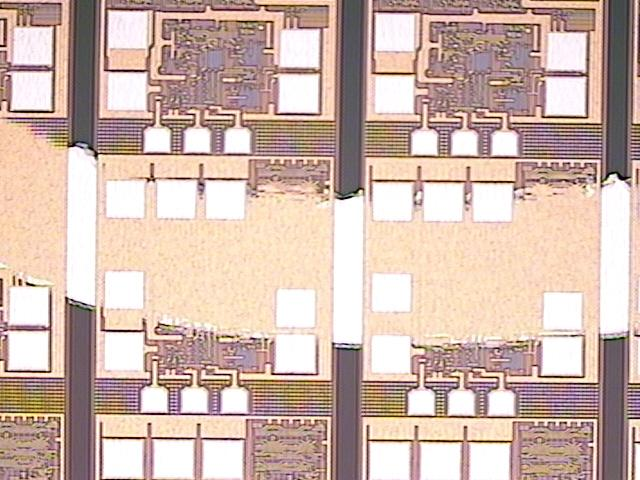BLOCK ETCH: (1, 105, 640, 357)
